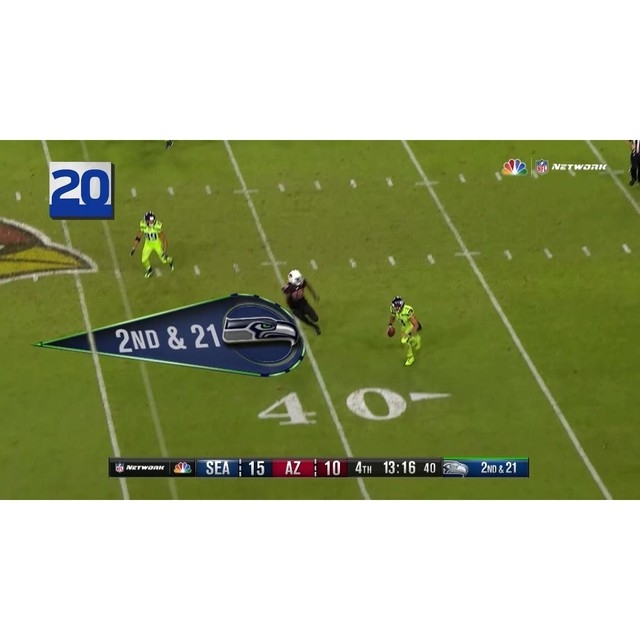american-football-player: (130, 211, 175, 279), (282, 271, 322, 337), (387, 297, 423, 367)
referee: (628, 140, 640, 186)
